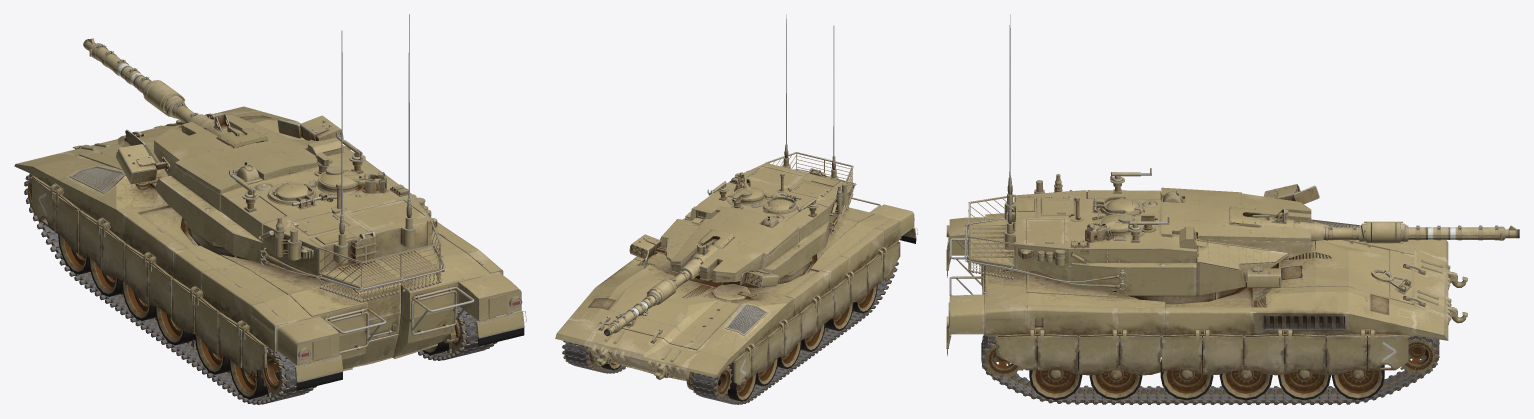
Rendered from merkava-mk3.glb.
3 views of the same model, side by side, from view 1: azimuth 30°, elevation 25°; view 2: azimuth 150°, elevation 25°; view 3: azimuth 270°, elevation 25° (orthographic). The views are drawn at different scales.
Visible parts, largest first — view 1: Body_Body_0, Body_Detail_0, Wheel_Wheel_0; view 2: Body_Body_0, Body_Detail_0, Wheel_Wheel_0; view 3: Body_Body_0, Wheel_Wheel_0, Body_Detail_0.
Part boxes in pixels (x1,y1,x2,y2): Body_Body_0: (14,38,524,390); Body_Detail_0: (32,14,526,378); Wheel_Wheel_0: (24,173,497,404); Body_Body_0: (555,152,916,385); Body_Detail_0: (588,14,917,379); Wheel_Wheel_0: (562,262,898,404); Body_Body_0: (946,187,1519,375); Wheel_Wheel_0: (981,266,1439,404); Body_Detail_0: (946,14,1498,345).
Bounding box in the file's own units: 1.29 × 1.91 × 3.02.
Materials: 3 (3 with a texture image).
